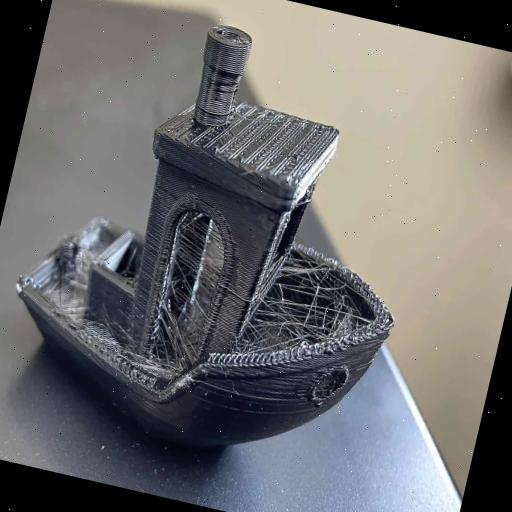stringing: (152, 219, 223, 367), (242, 264, 357, 339), (60, 244, 96, 292)
